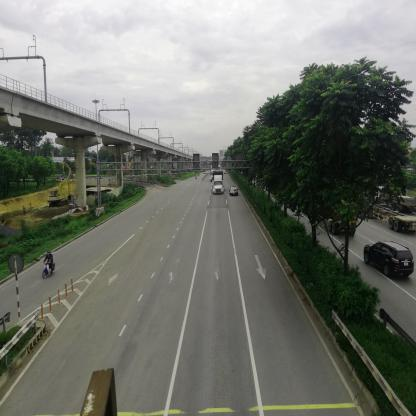car: (362, 240, 414, 287), (231, 186, 240, 197)
container: (214, 172, 225, 195)
motorbike: (42, 253, 57, 280)
